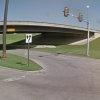Bridge: (3, 11, 97, 54)
